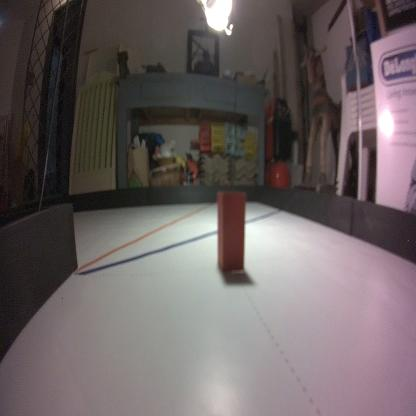red: (215, 188, 246, 272)
